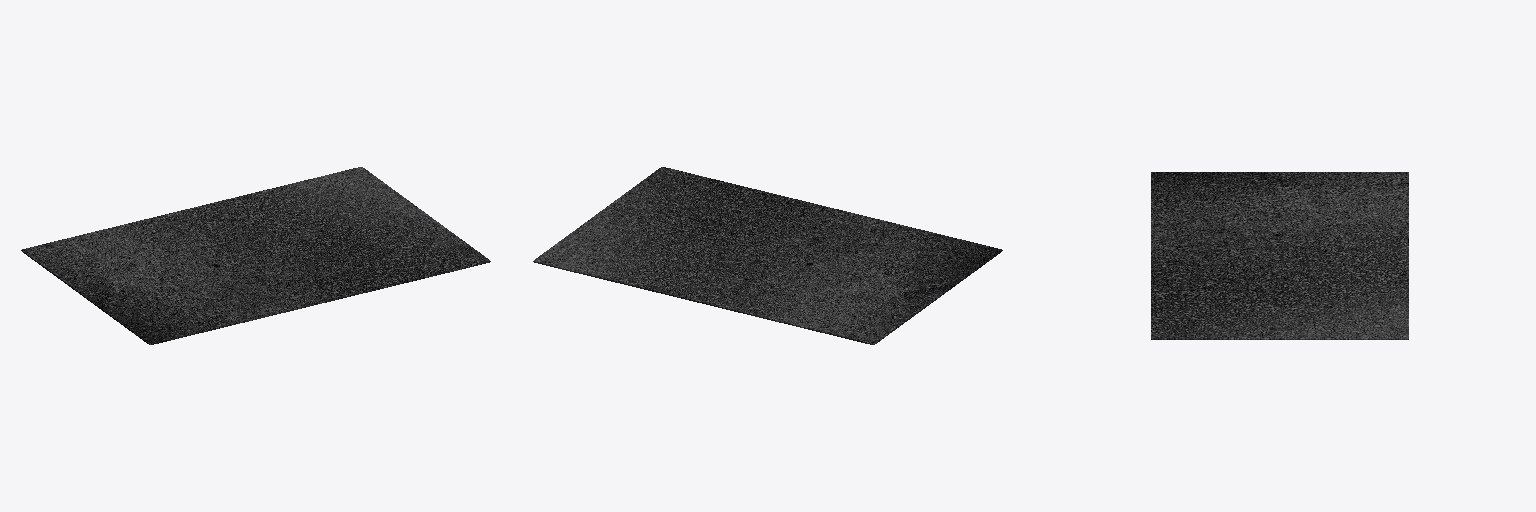
3 views of the same model, side by side, from view 1: azimuth 30°, elevation 25°; view 2: azimuth 150°, elevation 25°; view 3: azimuth 270°, elevation 25° (orthographic).
Visible parts, largest first — view 1: pCube10; view 2: pCube10; view 3: pCube10.
Part boxes in pixels (bbox=[...]): pCube10: bbox=[21, 167, 490, 344]; pCube10: bbox=[533, 167, 1002, 344]; pCube10: bbox=[1151, 172, 1408, 339].
Bounding box in the file's own units: 52.81 × 0.2003 × 34.64.
Materials: 1 (1 with a texture image).